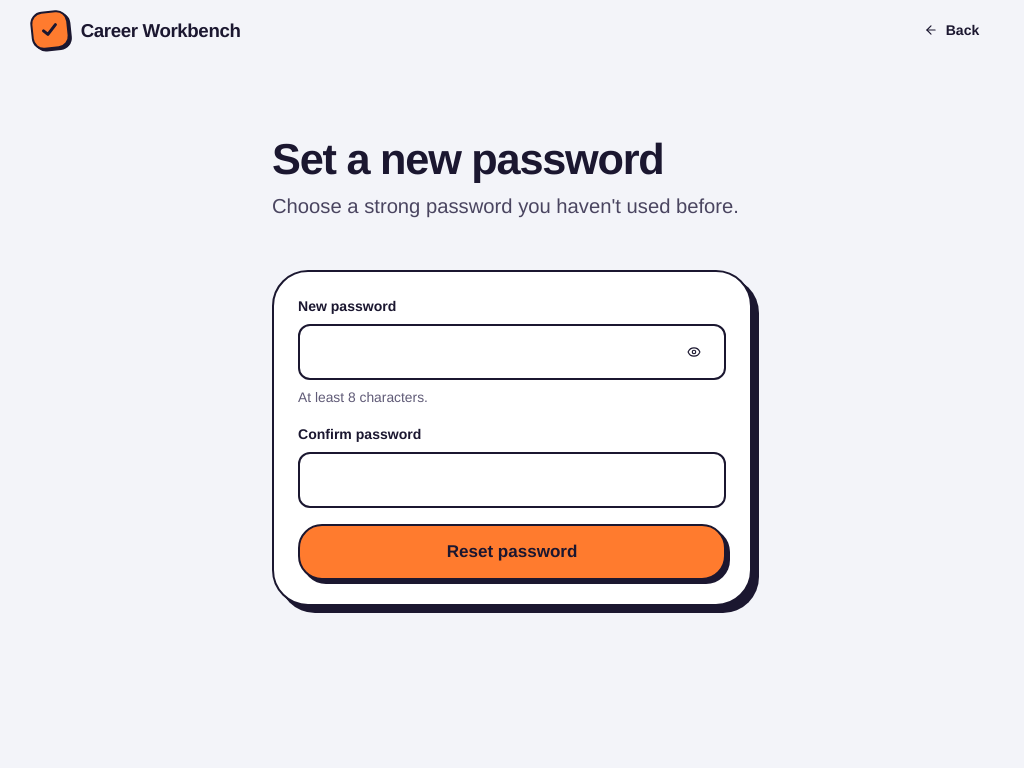
Test case: ResetPasswordPage states › confirms the new password and points to sign in
Step 1. Type "new-password-1" into the password field labelled "New password" → (492, 352), box [316,326,668,378]
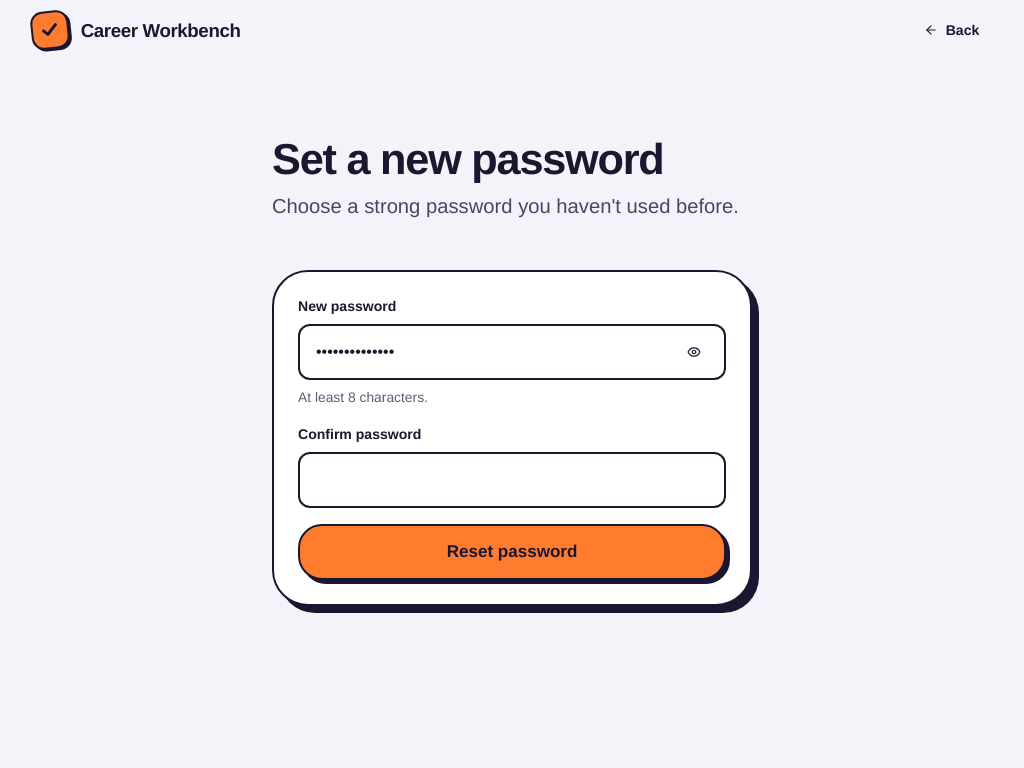
Step 2. Type "new-password-1" into the password field labelled "Confirm password" → (512, 480), box [316,454,708,506]
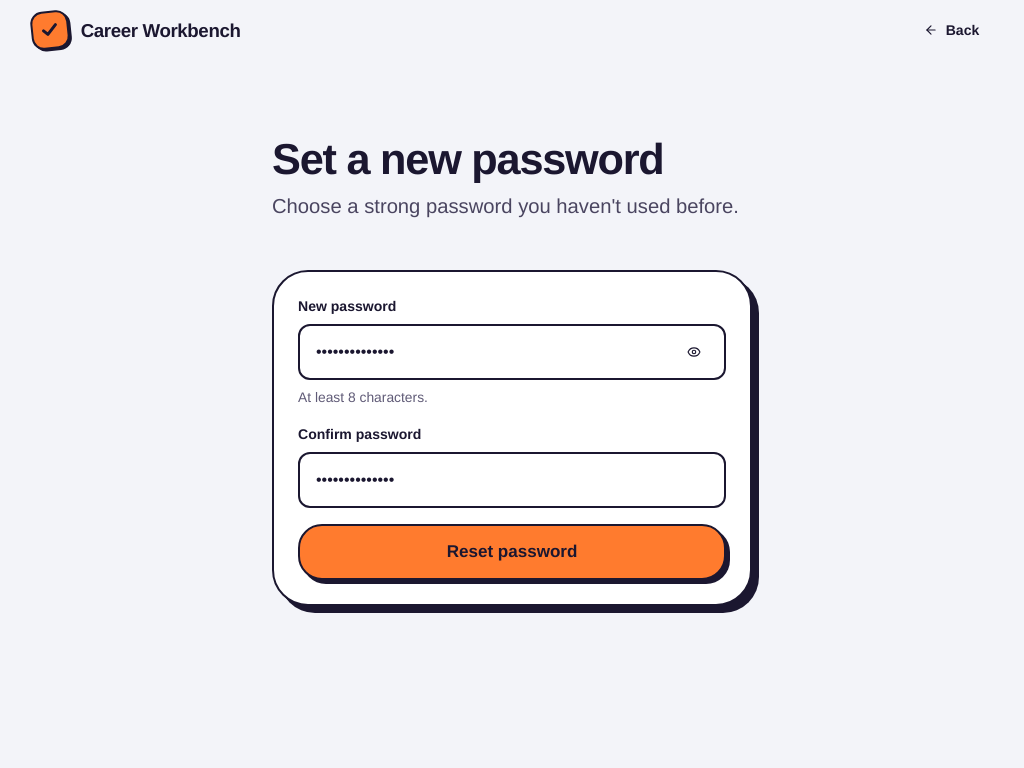
Step 3. Click the button "Reset password" → (512, 552), box [298,524,726,580]
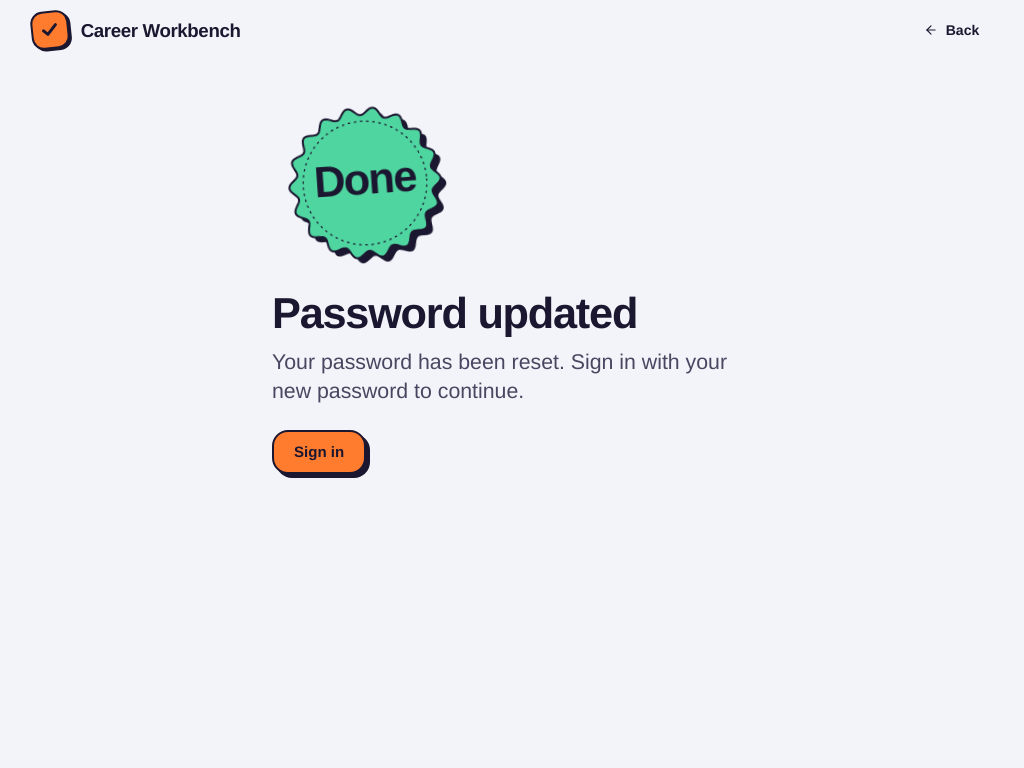
Now the heading "Password updated" is shown, box [272,292,637,336]
